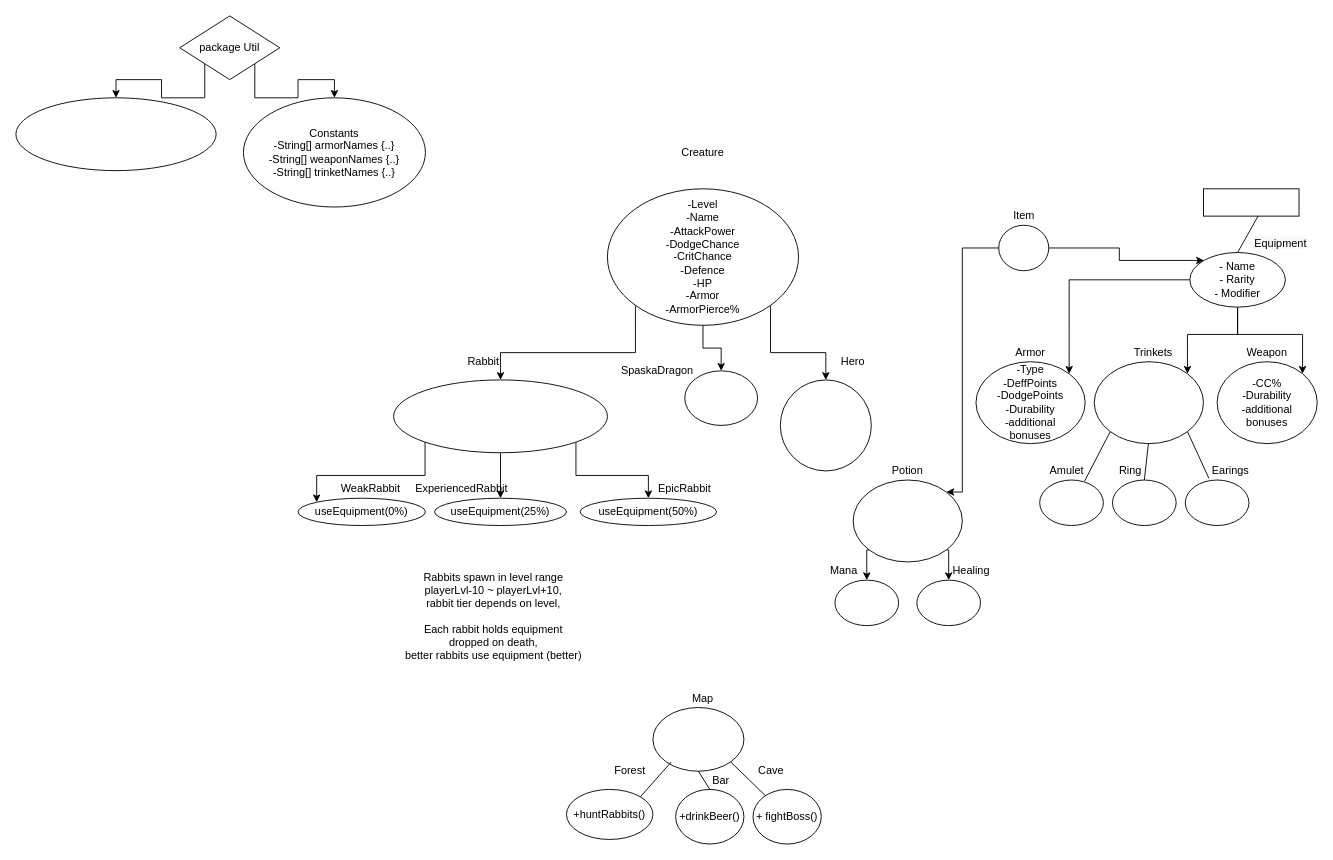
This 1333x860 diagram has some shape labels left out. The centre of each missing label's shape, as x and y in pixels:
"-Armors -Weapons -Trinkets -ItemBag -currentXP -nextLevelXP" belongs at (x=825, y=425).
"-Preset - Level 999" belongs at (x=721, y=397).
"Can be deployed in battle (if possible?)" belongs at (x=907, y=520).
"int xpDrop; Equipment loot; + useEquipment(int proficiency%)" belongs at (x=500, y=416).
"Random +int intFromRange(int min, int max) +<T> T pickFrom(T[] choices)" belongs at (x=115, y=134).
"Wearable" belongs at (x=1251, y=202).
